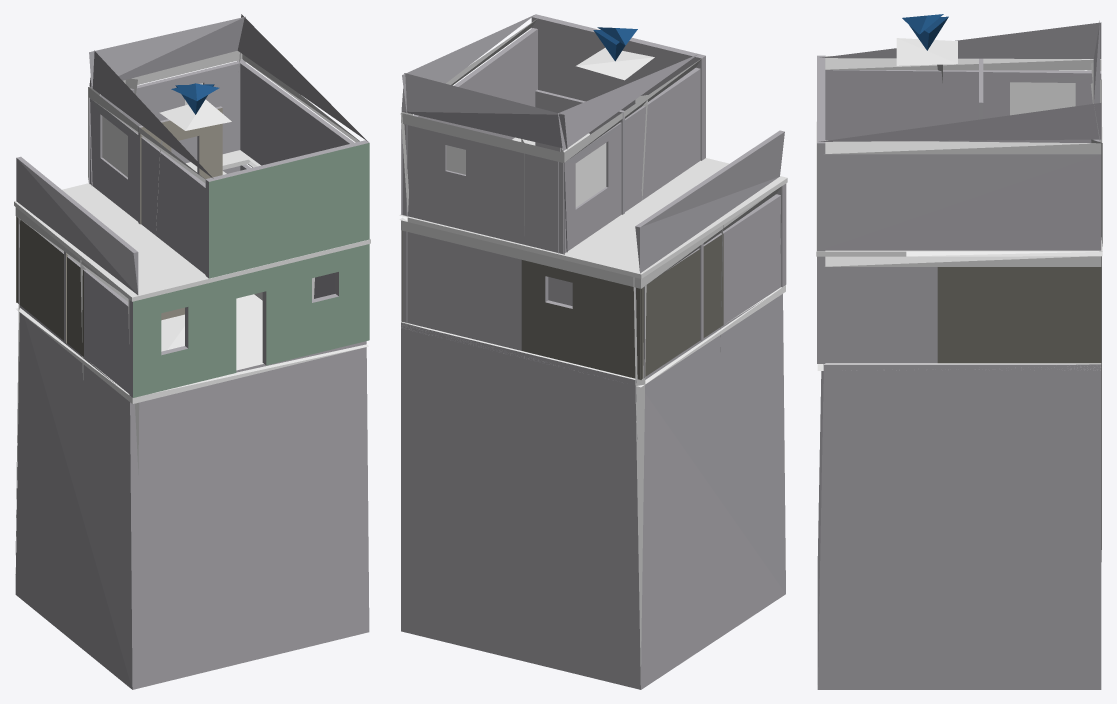
The picture shows the model from 3 angles, left to right: view 1: azimuth 30°, elevation 25°; view 2: azimuth 150°, elevation 25°; view 3: azimuth 270°, elevation 25°; orthographic projection. The views are drawn at different scales.
Visible parts, largest first — view 1: F_19; view 2: F_19; view 3: F_19.
Boxes of the visible parts, left/top/right/bottom form: F_19: left=14, top=14, right=370, bottom=689; F_19: left=399, top=14, right=787, bottom=689; F_19: left=816, top=14, right=1102, bottom=689.
Size of the model in its own units: 7.06 by 15.34 by 6.56.
